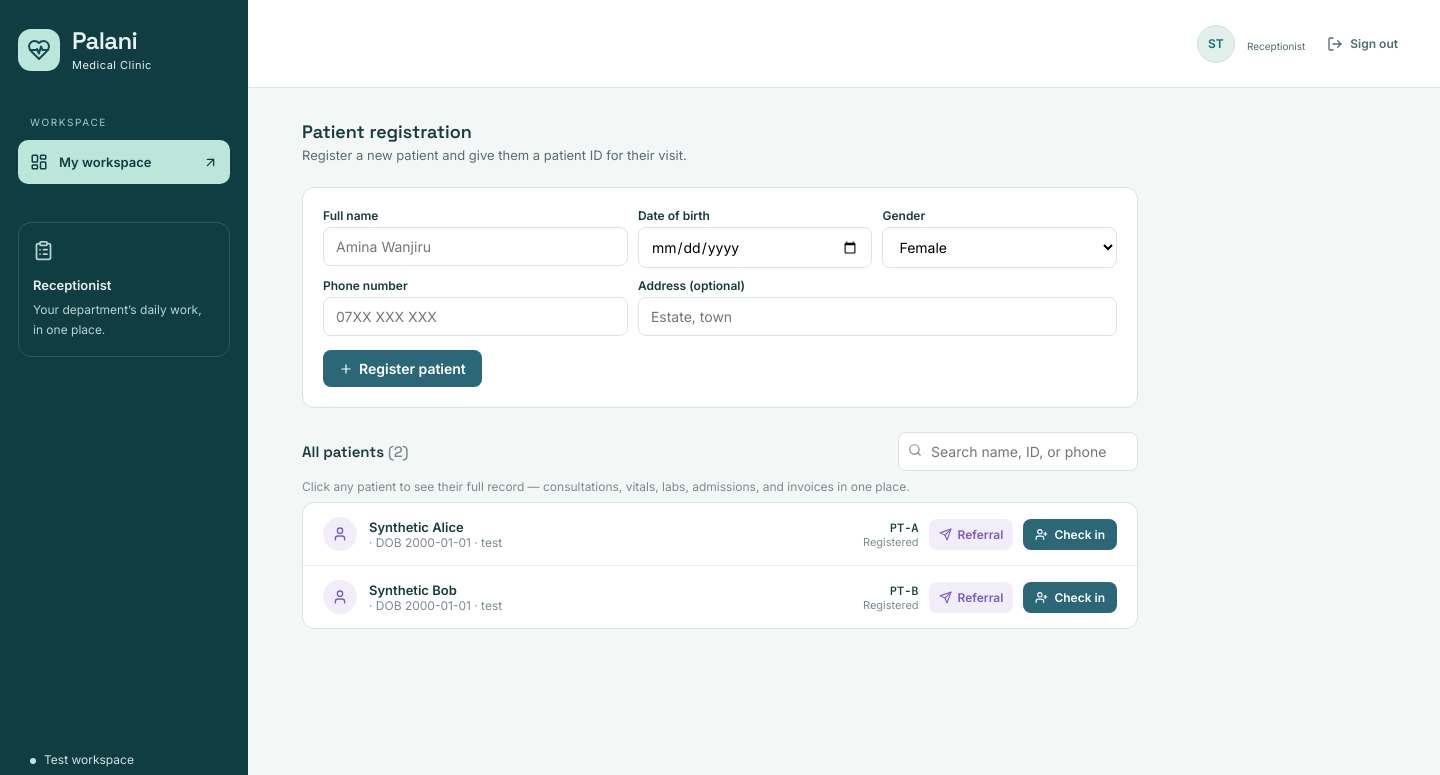
Scenario: Reception incoming referrals › captures reported urgency and notes without a queue write
The width and height of the screenshot is (1440, 775).
Click the button with aria-label "Log incoming referral for Synthetic Alice" at (971, 534), box x1=929 y1=518 x2=1013 y2=550
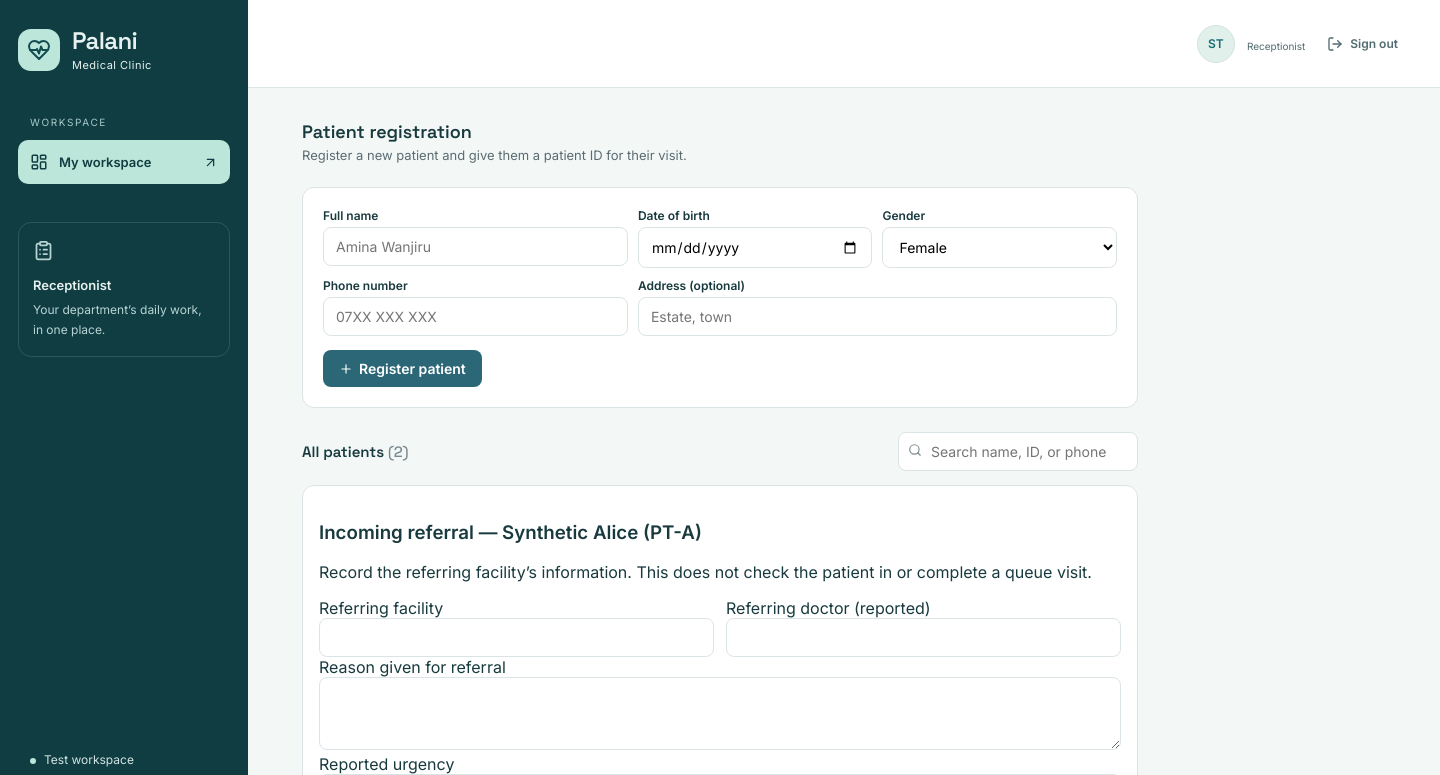
Type "Source facility" into the field labelled "Referring facility" at (516, 638), box x1=319 y1=618 x2=714 y2=657
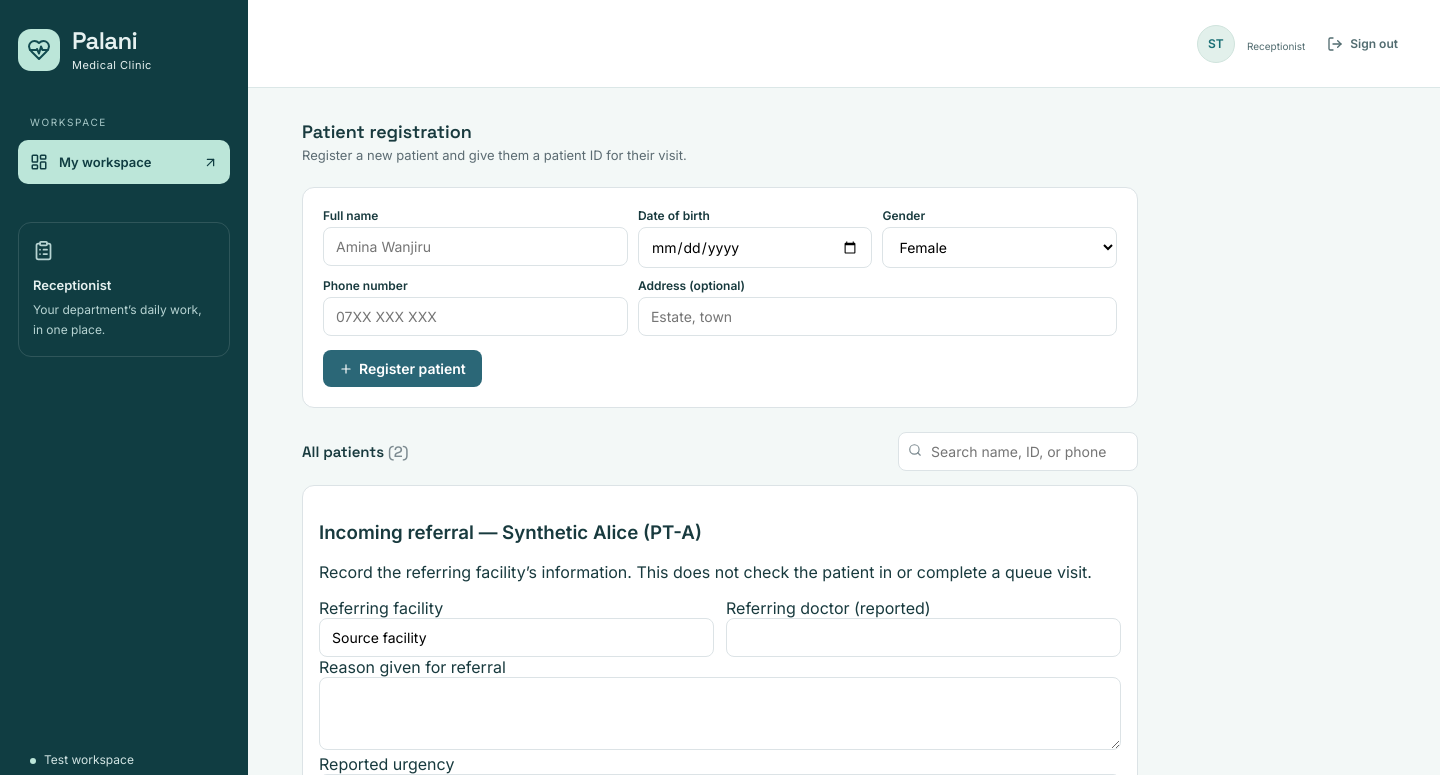
Type "Source reason" into the text box labelled "Reason given for referral" at (720, 714), box x1=319 y1=677 x2=1121 y2=750
(page scrolled)
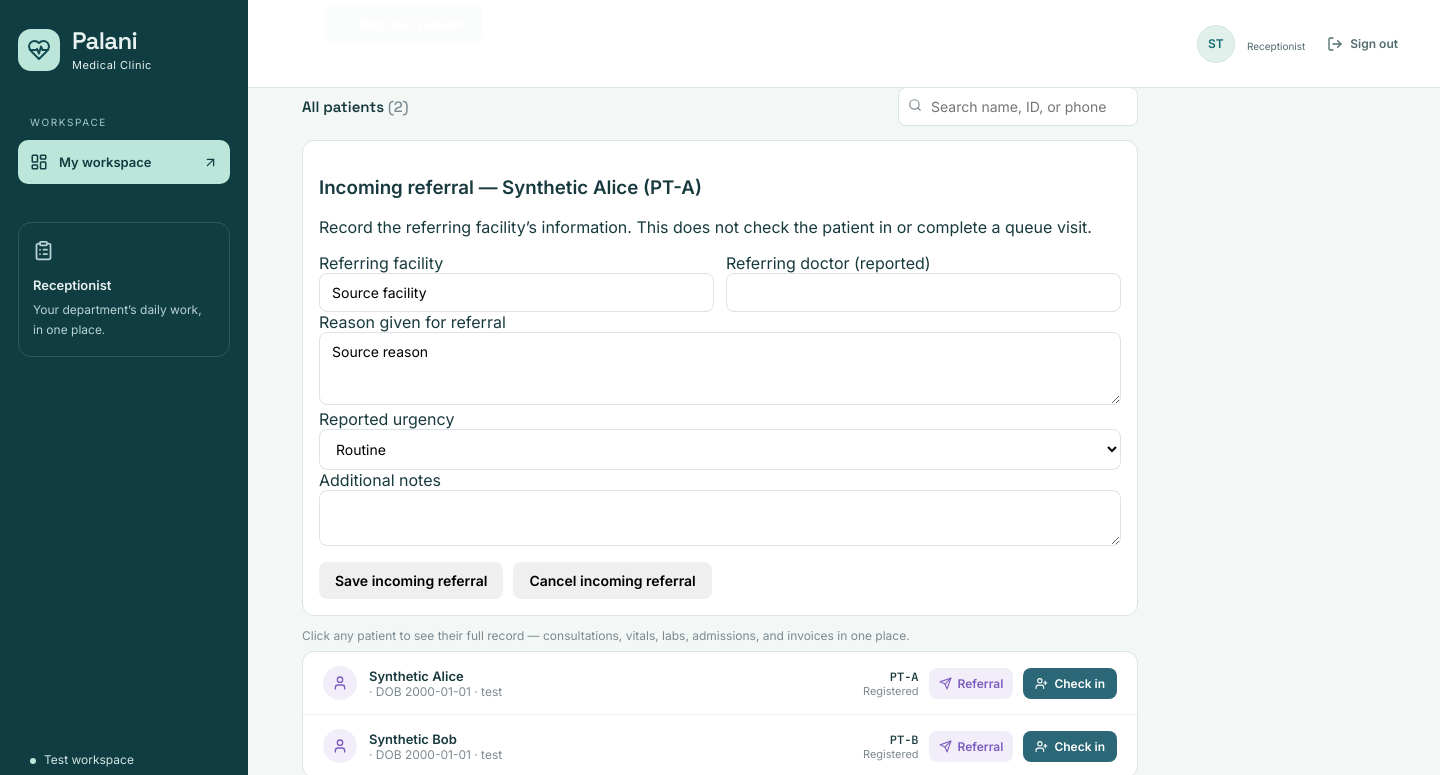
Select "Urgent" in the dropdown labelled "Reported urgency" at (720, 450), box x1=319 y1=429 x2=1121 y2=470
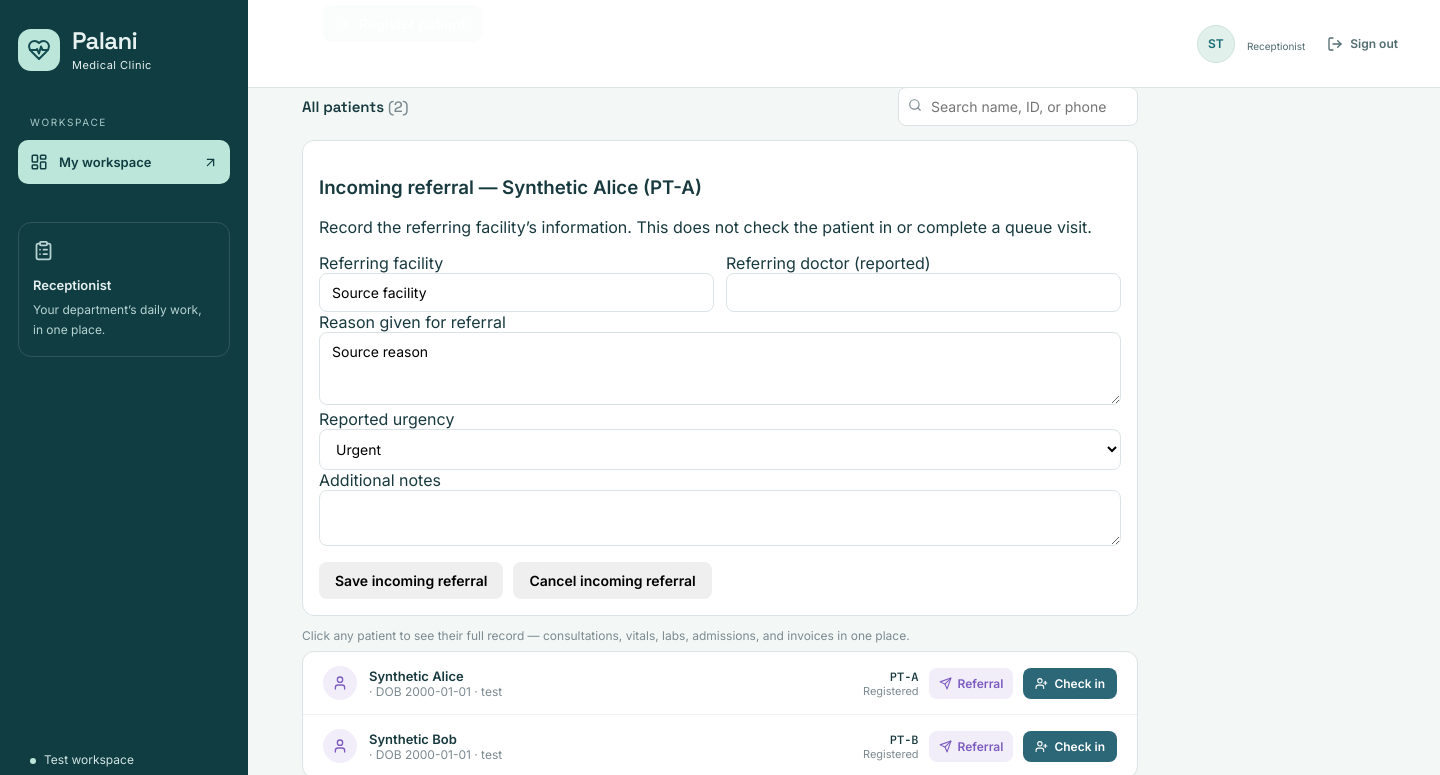
Type "Source note" into the text box labelled "Additional notes" at (720, 518), box x1=319 y1=490 x2=1121 y2=546
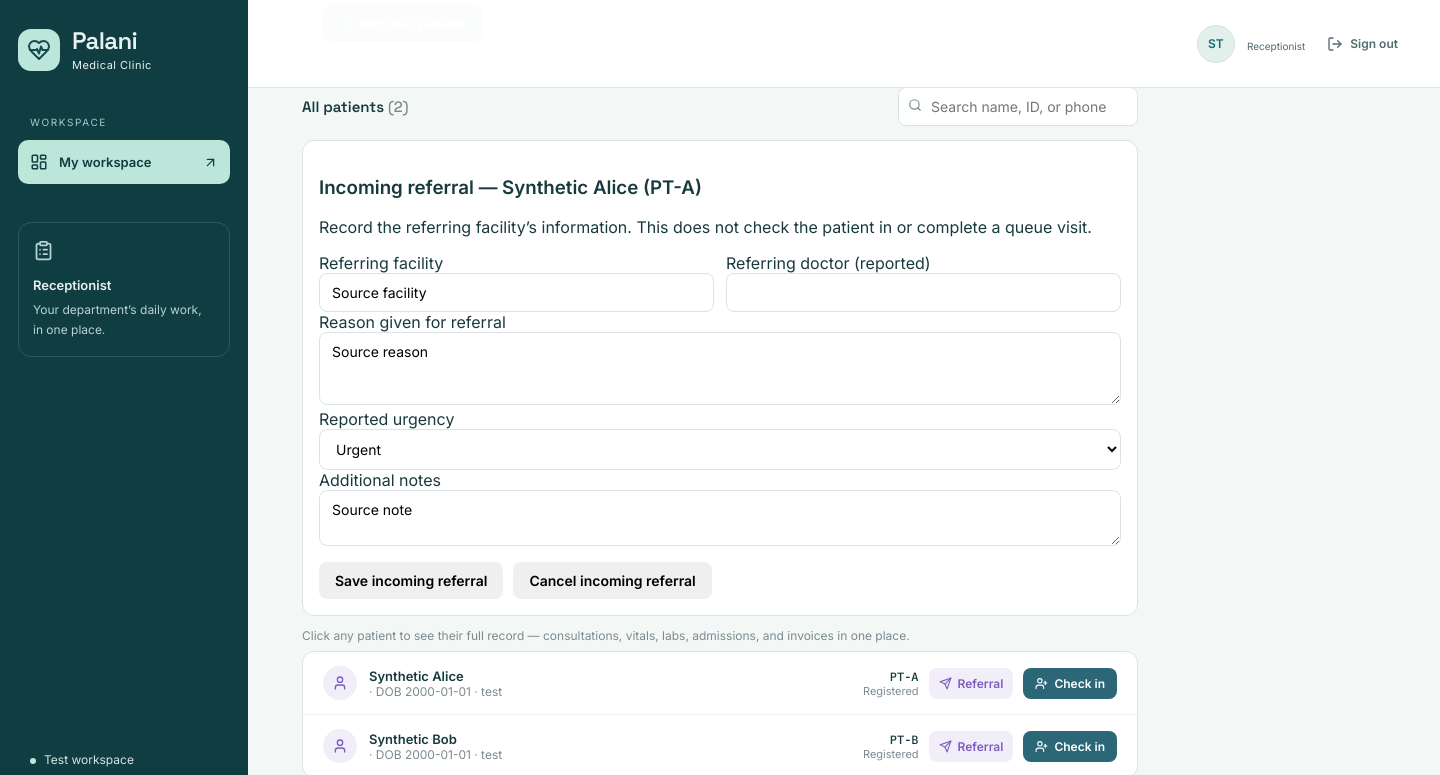
Click the button "Save incoming referral" at (411, 581), box x1=319 y1=562 x2=504 y2=599
(page scrolled)
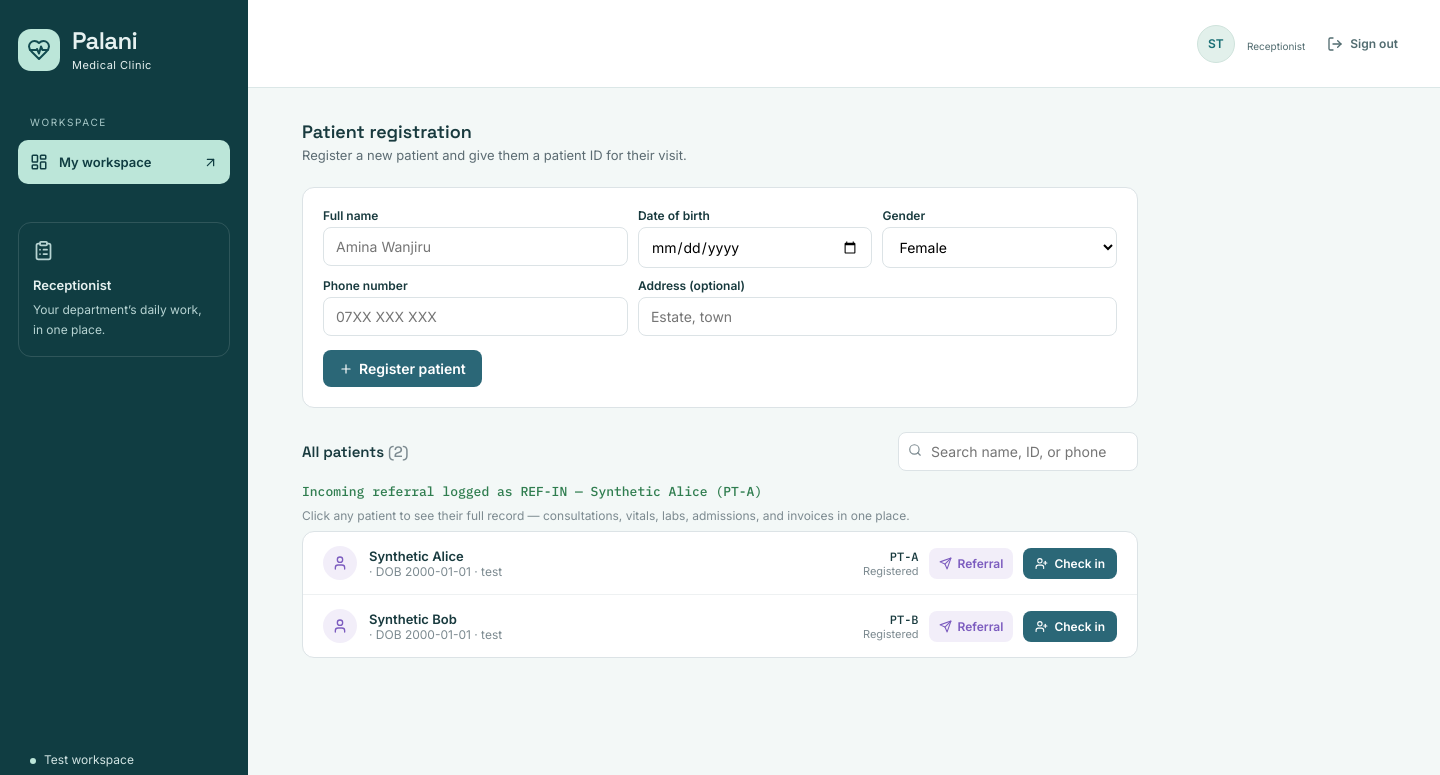
Expected: the text "Incoming referral logged as REF-IN — Synthetic Alice (PT-A)" is shown, x1=302 y1=483 x2=762 y2=500
